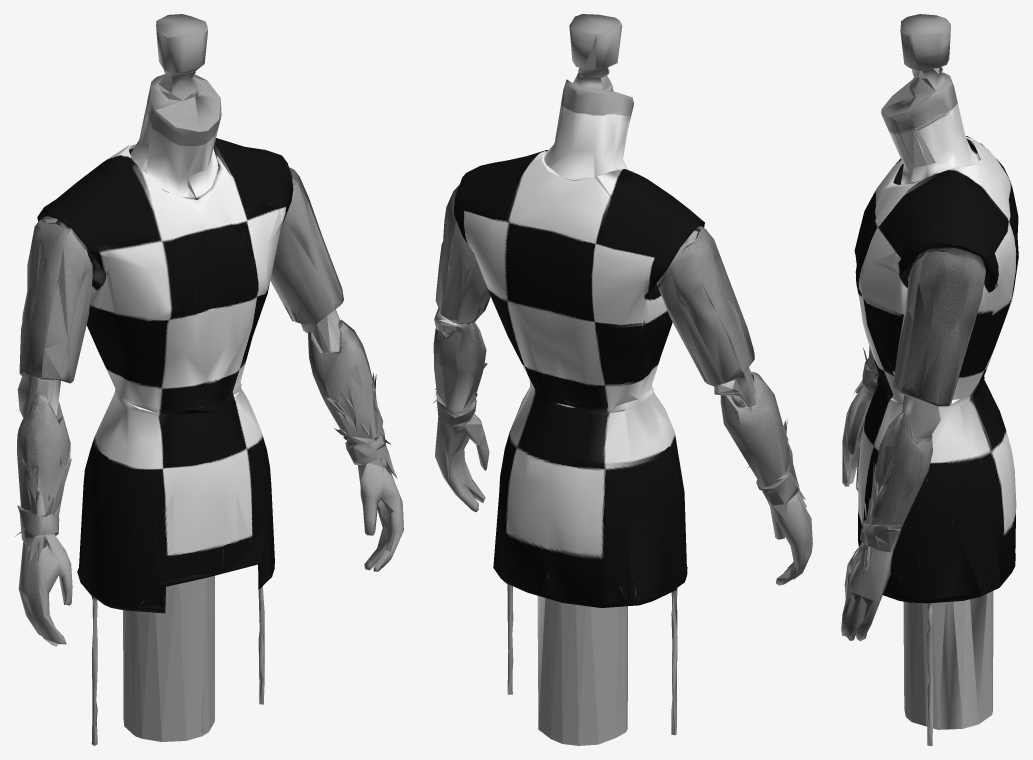
Rendered from Mannequin.fbx.
3 views of the same model, side by side, from view 1: azimuth 30°, elevation 25°; view 2: azimuth 150°, elevation 25°; view 3: azimuth 270°, elevation 25° (orthographic). The views are drawn at different scales.
Parts seen in each view (by area): view 1: Mesh_0; view 2: Mesh_0; view 3: Mesh_0.
Part boxes in pixels (box(x1,y1,x2,y2)): Mesh_0: box(15, 14, 403, 745); Mesh_0: box(433, 14, 812, 745); Mesh_0: box(841, 14, 1018, 745).
Size of the model in its own units: 106 by 190 by 44.42.
1 material, 1 textured.
